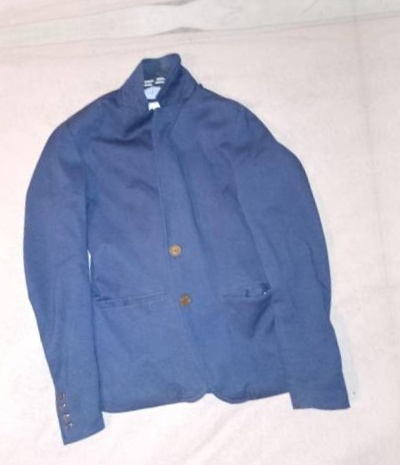Blazer: (0, 23, 366, 460), (0, 0, 313, 16), (393, 0, 400, 411)
